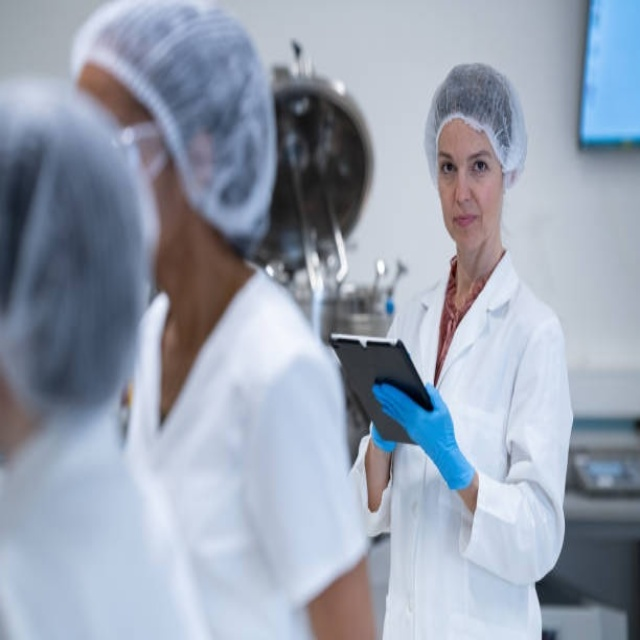Gafas: (118, 120, 175, 189)
Guantes: (370, 376, 476, 497)
Mascara: (112, 119, 166, 271)
Sin_gafas: (441, 140, 492, 187)
Sin_mascara: (449, 205, 484, 246)
